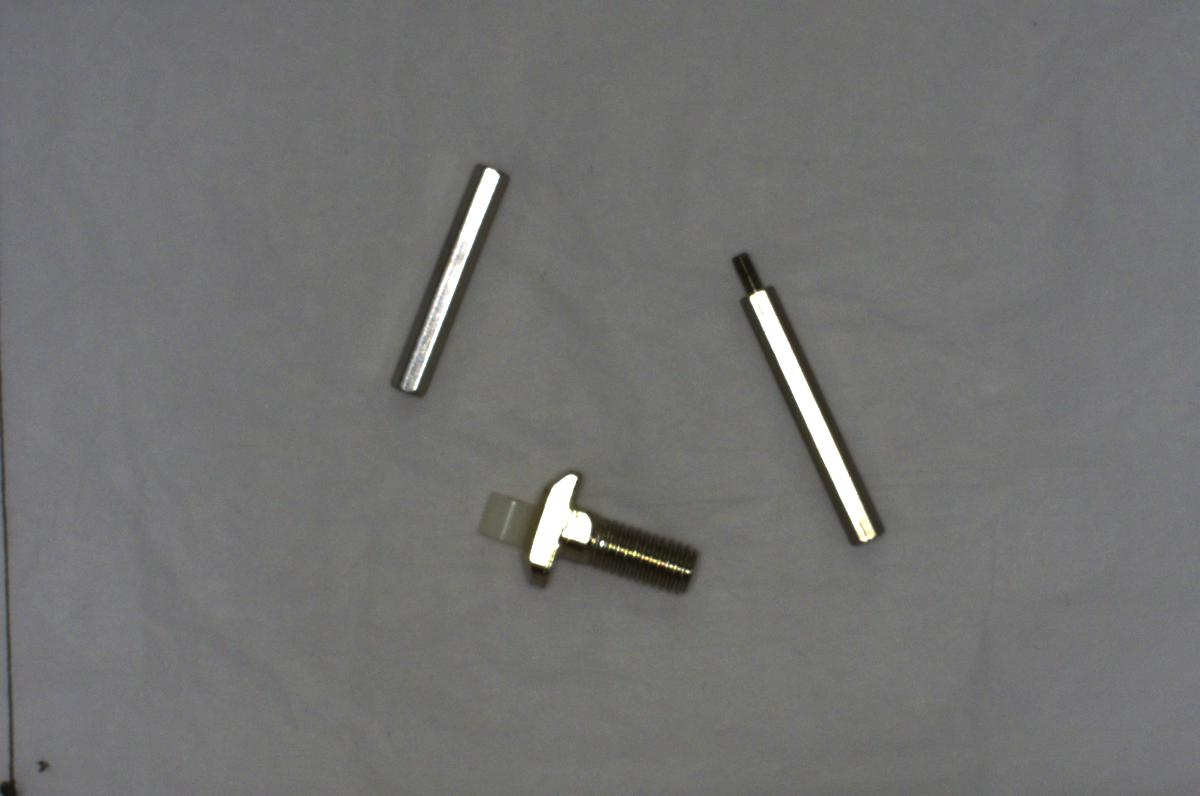Double hexagonal column: (378, 154, 508, 402)
Hexagonal steel column: (725, 243, 882, 555)
Plastic cushion pillar: (466, 486, 535, 550)
T-shaped screw: (526, 468, 699, 595)
